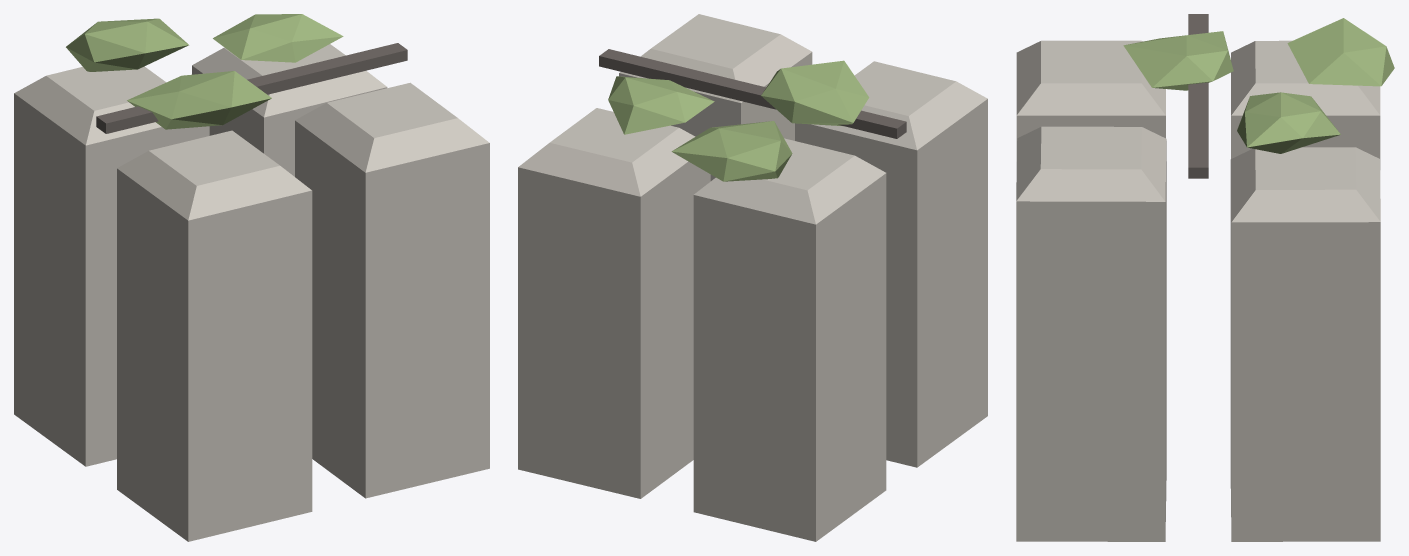
File: ob_stone1.glb
3 renders of one model, left to right at view 1: azimuth 30°, elevation 25°; view 2: azimuth 150°, elevation 25°; view 3: azimuth 270°, elevation 25°, orthographic. The views are drawn at different scales.
Size of the model in its own units: 0.0448 by 0.0539 by 0.0466.
